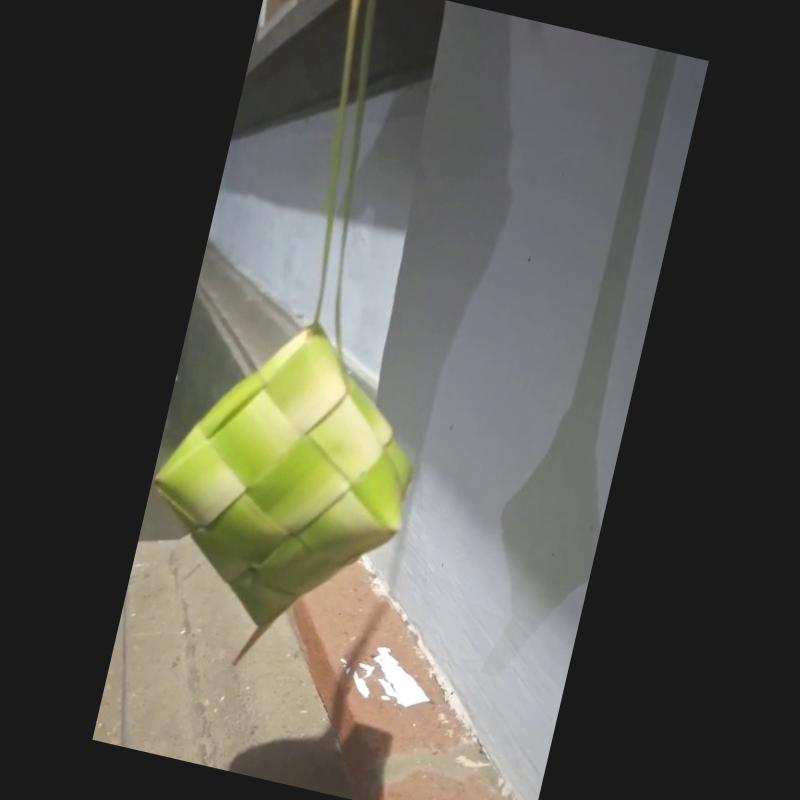Tipat Nasi: (152, 315, 417, 668)
